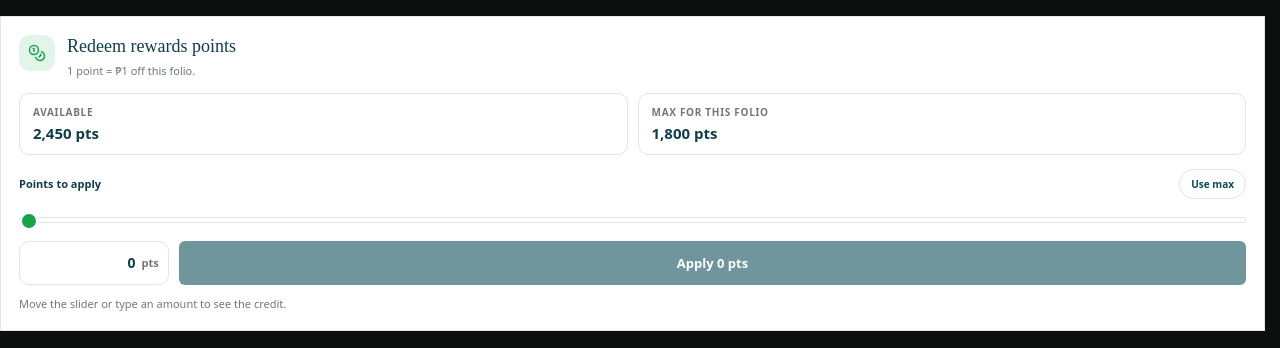
it: LoyaltyRedemptionSelector › Use max fills both inputs, previews the credit, and then switches itself off
Click the button "Use max": (1213, 184) [1179,168,1246,198]
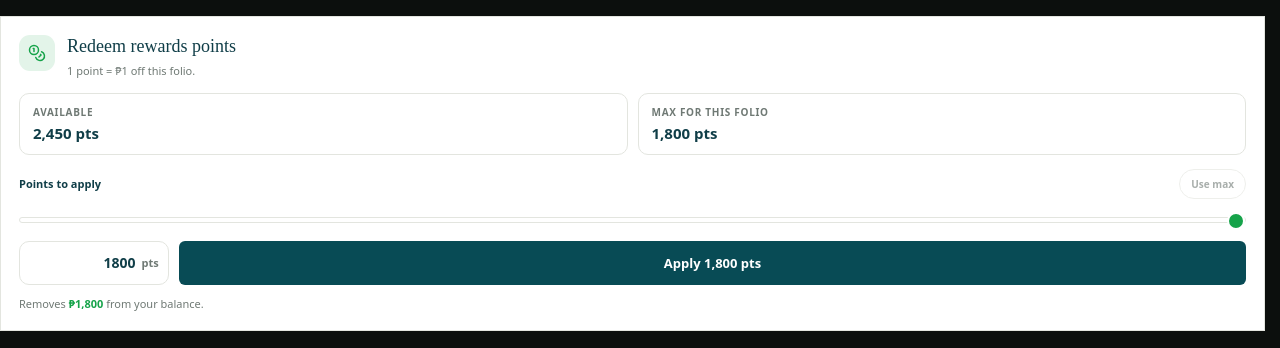
Result: the number field named "Points to apply — exact amount" holds "1800" at [32,253,136,272]
Result: the slider labelled "Points to apply" holds "1800" at [19,208,1246,230]
Result: the button "Apply 1,800 pts" is shown at [179,240,1246,284]
